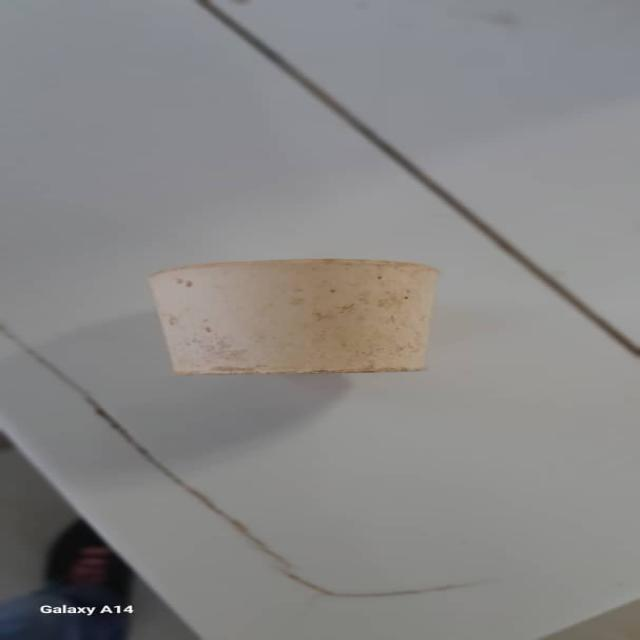Stopper: (140, 260, 454, 376)
